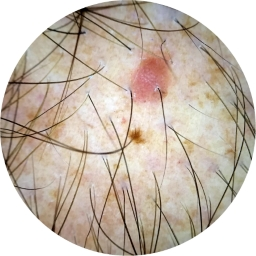melanoma: (134, 58, 170, 101)
